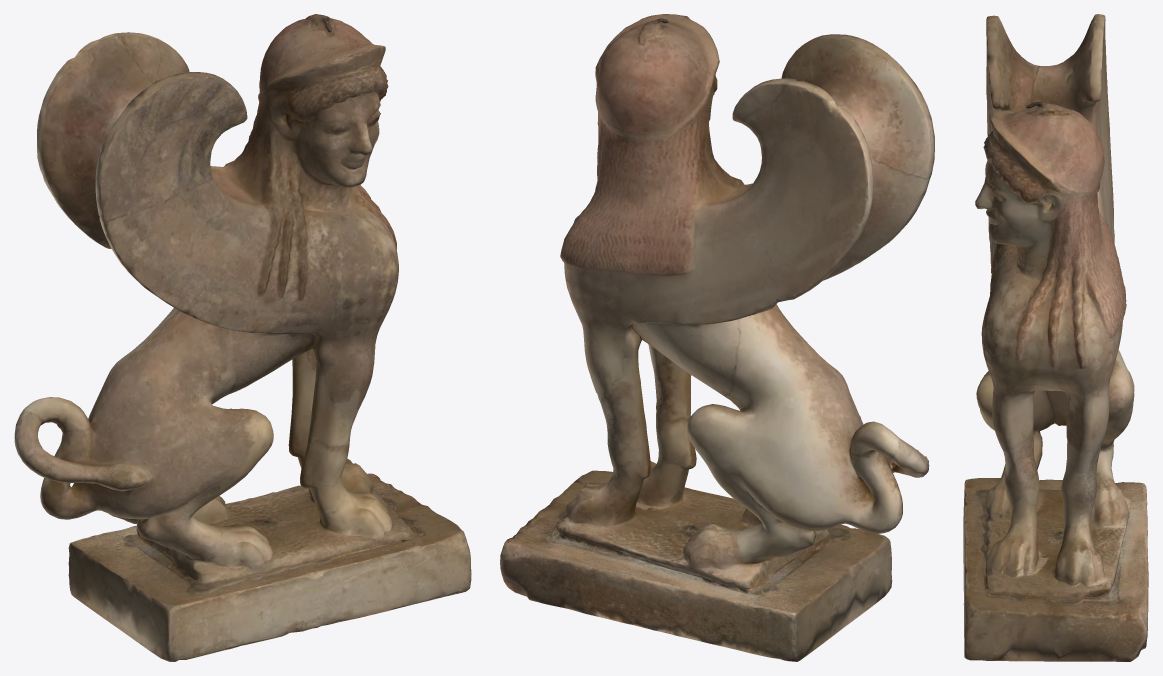
Rendered from preview.glb.
3 renders of one model, left to right at view 1: azimuth 30°, elevation 25°; view 2: azimuth 150°, elevation 25°; view 3: azimuth 270°, elevation 25°, orthographic. The views are drawn at different scales.
Parts seen in each view (by area): view 1: defaultobject; view 2: defaultobject; view 3: defaultobject.
Boxes of the visible parts, left/top/right/bottom form: defaultobject: left=14, top=14, right=471, bottom=661; defaultobject: left=500, top=14, right=934, bottom=661; defaultobject: left=963, top=14, right=1148, bottom=661.
Size of the model in its own units: 0.5979 by 0.8261 by 0.2682.
Materials: 1 (1 with a texture image).
